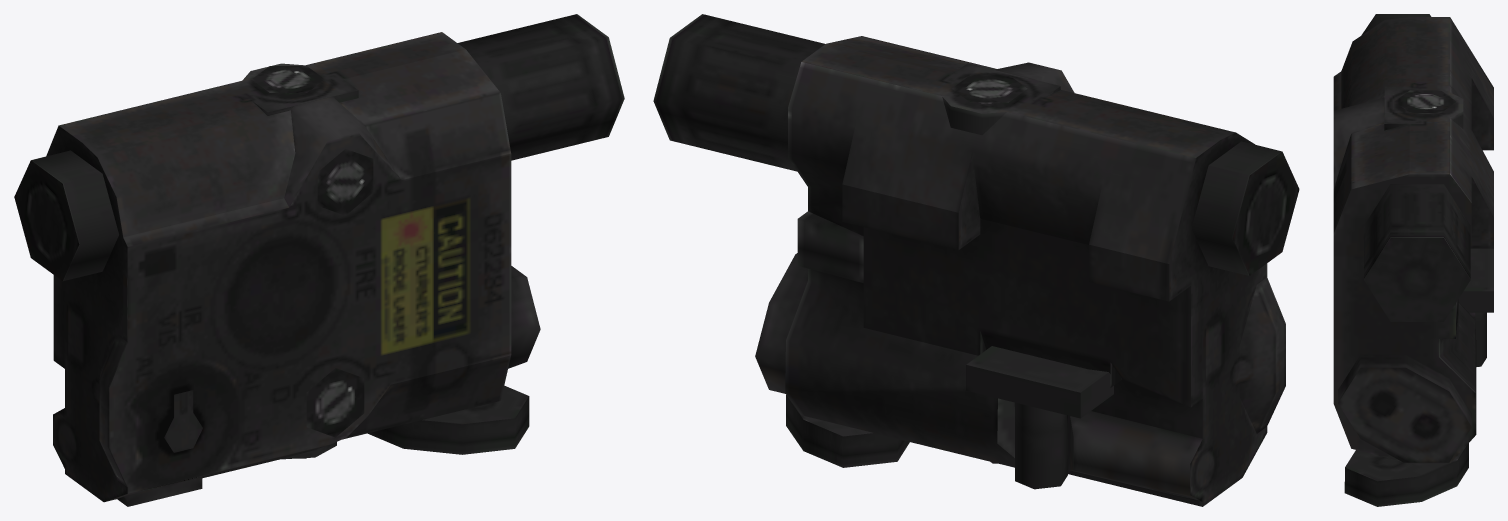
The model's file is t6_attach_dbal_world_LOD1.obj.
The picture shows the model from 3 angles, left to right: view 1: azimuth 30°, elevation 25°; view 2: azimuth 150°, elevation 25°; view 3: azimuth 270°, elevation 25°; orthographic projection. The views are drawn at different scales.
Parts seen in each view (by area): view 1: mtl_t6_attach_dbal; view 2: mtl_t6_attach_dbal; view 3: mtl_t6_attach_dbal.
Part boxes in pixels (left/top/right/bottom): mtl_t6_attach_dbal: left=14, top=14, right=624, bottom=506; mtl_t6_attach_dbal: left=653, top=14, right=1299, bottom=506; mtl_t6_attach_dbal: left=1333, top=14, right=1493, bottom=506.
Size of the model in its own units: 9.14 by 5.95 by 2.81.
